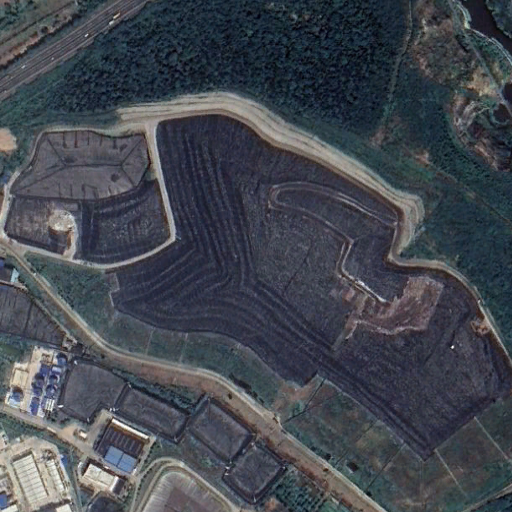lf: (114, 116, 509, 458)
